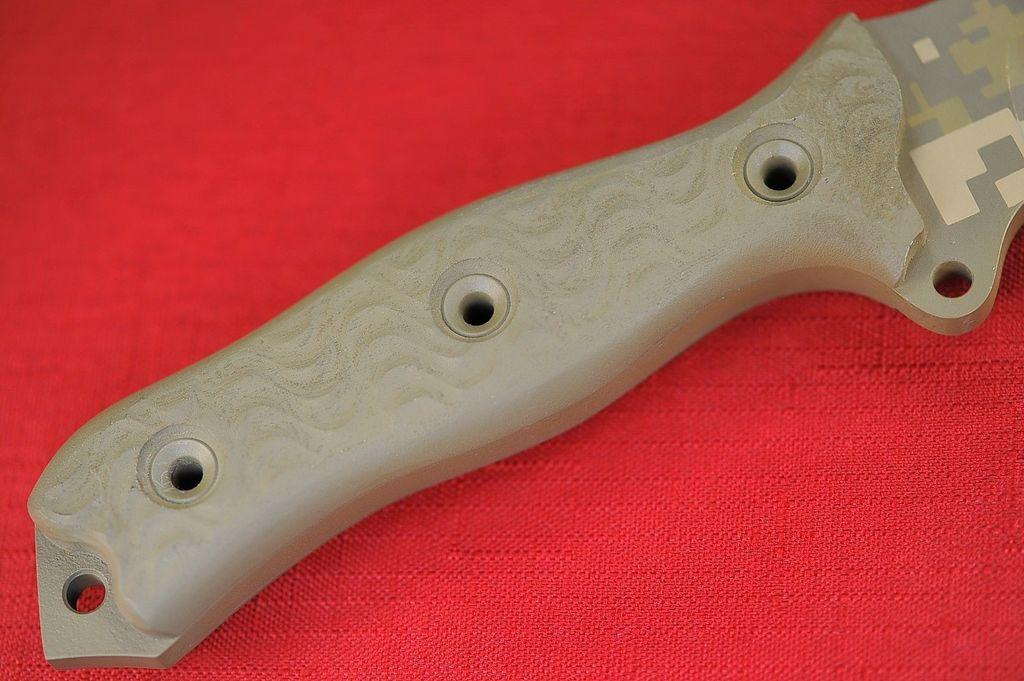knife: (26, 0, 1024, 674)
